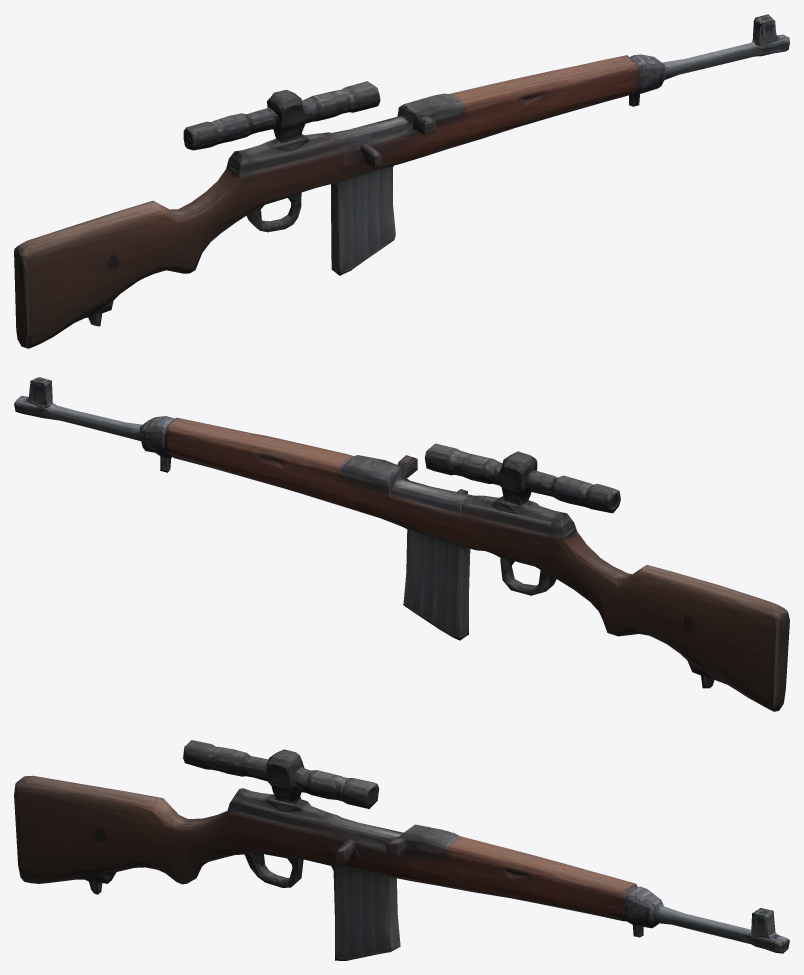
3 renders of one model, top to bottom at view 1: azimuth 30°, elevation 25°; view 2: azimuth 150°, elevation 25°; view 3: azimuth 330°, elevation 25°, orthographic.
Visible parts, largest first — view 1: geometry_0; view 2: geometry_0; view 3: geometry_0.
Boxes of the visible parts, bbox=[...] form: geometry_0: bbox=[14, 14, 789, 348]; geometry_0: bbox=[14, 377, 789, 711]; geometry_0: bbox=[14, 740, 789, 960].
Bounding box in the file's own units: 0.9979 × 0.2384 × 0.064.
Materials: 1 (1 with a texture image).
